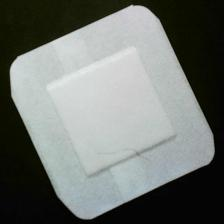Dressing: (8, 6, 218, 222)
F_Body: (89, 139, 161, 171)
